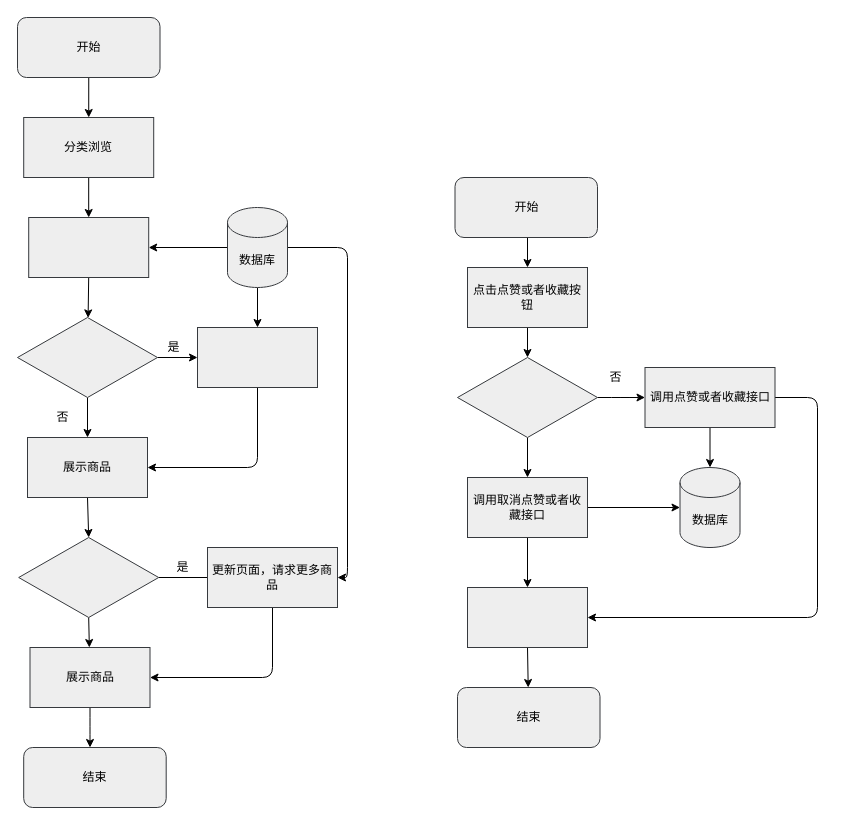
The diagram is 843 pixels wide and 825 high, and some of its shapes have lost their labels. The shapes that lost their labels are listed below. From the top down, each one's box as (x1, y1, x2, y2) in pixels, then its label:
(28, 216, 149, 278): 请求获取商品的接口
(16, 316, 158, 398): 切换分类？
(196, 326, 318, 388): 重新请求获取商品的接口
(456, 356, 598, 438): 已经点赞或者收藏？
(18, 536, 159, 618): 下拉加载更多？
(466, 586, 588, 648): 改变商品点赞或者收藏展示状态
